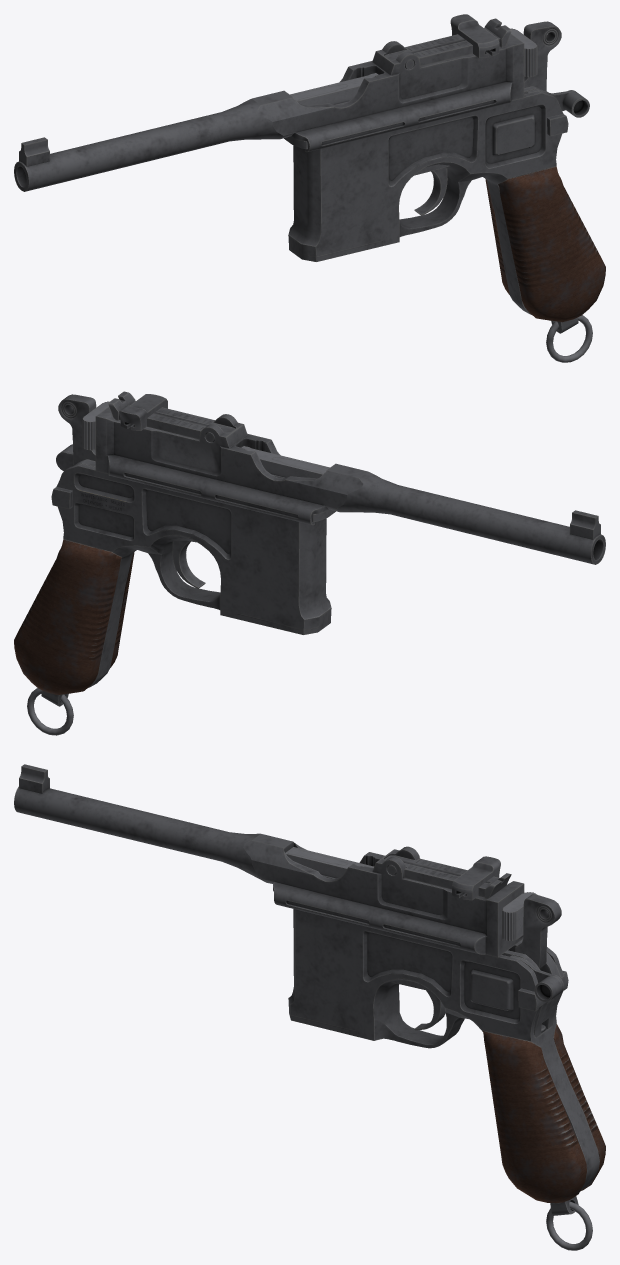
The model's file is MauserC96.fbx.
3 views of the same model, one above another, from view 1: azimuth 30°, elevation 25°; view 2: azimuth 150°, elevation 25°; view 3: azimuth 330°, elevation 25° (orthographic).
Parts seen in each view (by area): view 1: model_0; view 2: model_0; view 3: model_0.
Part boxes in pixels (box(x1,y1,x2,y2)): model_0: box(14, 14, 605, 362); model_0: box(14, 391, 605, 735); model_0: box(14, 764, 605, 1250).
Size of the model in its own units: 474 by 283 by 57.67.
1 material, 1 textured.
